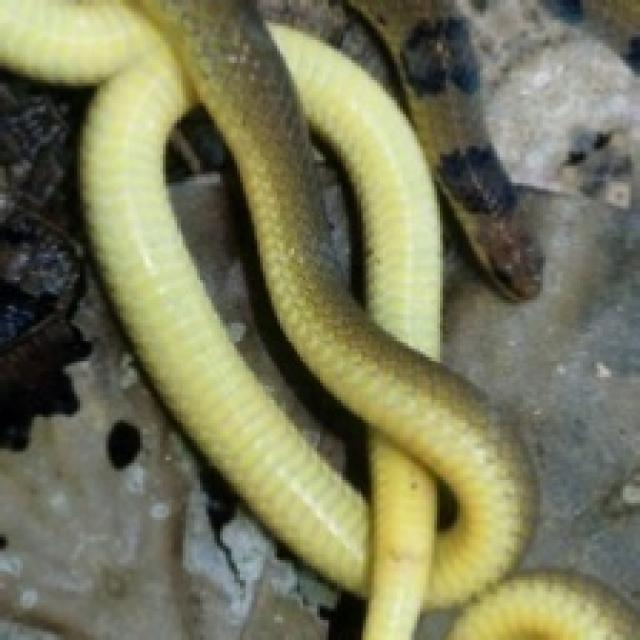luzon dwarf snake: (0, 0, 637, 637), (160, 94, 460, 557), (343, 137, 420, 246)
